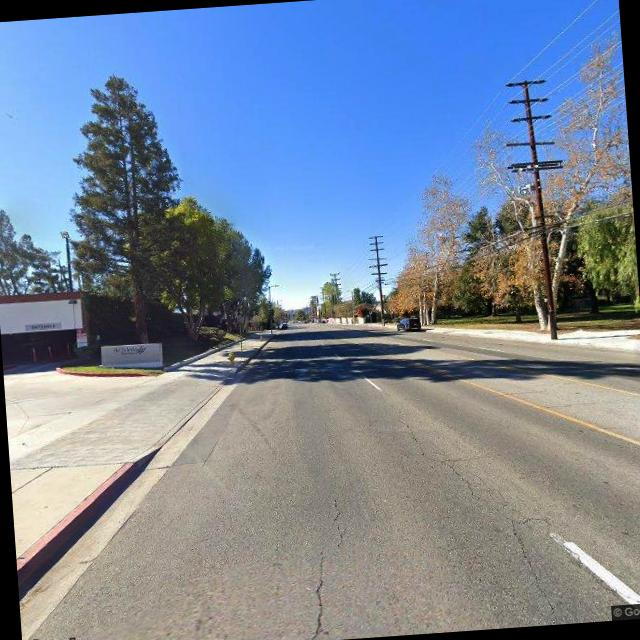pothole: (386, 379, 568, 631), (293, 493, 346, 640)
